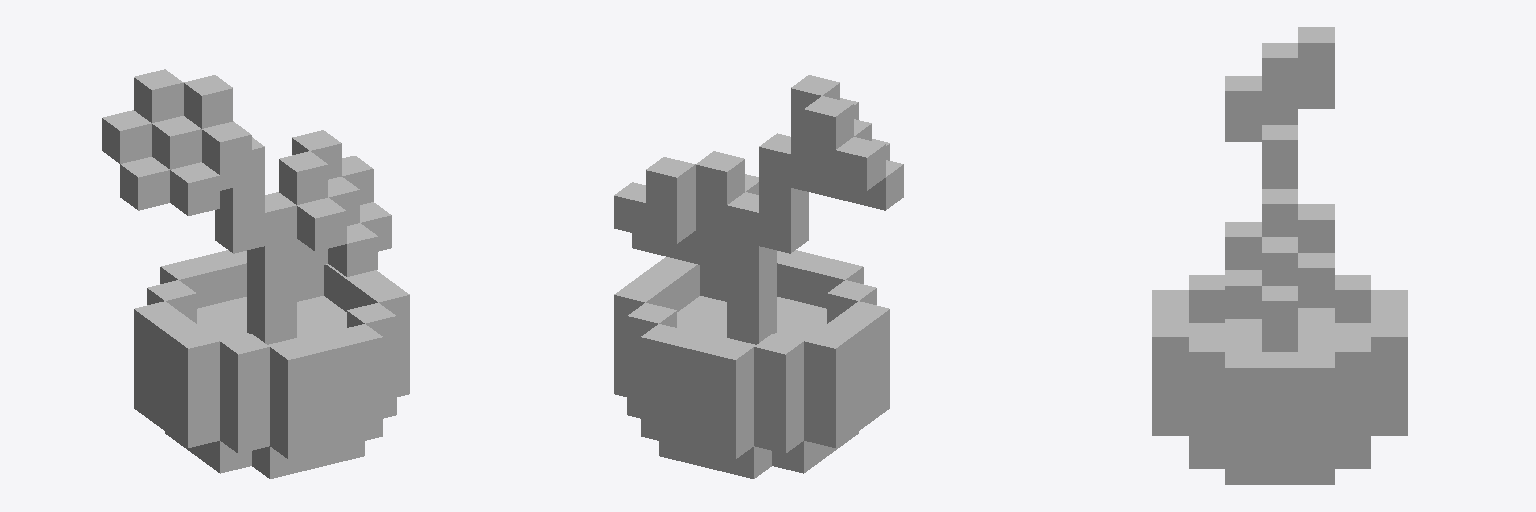
Rendered from flower.obj.
3 renders of one model, left to right at view 1: azimuth 30°, elevation 25°; view 2: azimuth 150°, elevation 25°; view 3: azimuth 270°, elevation 25°, orthographic.
Parts seen in each view (by area): view 1: object 1; view 2: object 1; view 3: object 1.
Boxes of the visible parts, x1,y1,x2,y2 form: object 1: [102, 69, 409, 478]; object 1: [614, 75, 903, 478]; object 1: [1152, 27, 1407, 484].
Size of the model in its own units: 0.8 by 1.1 by 0.7.